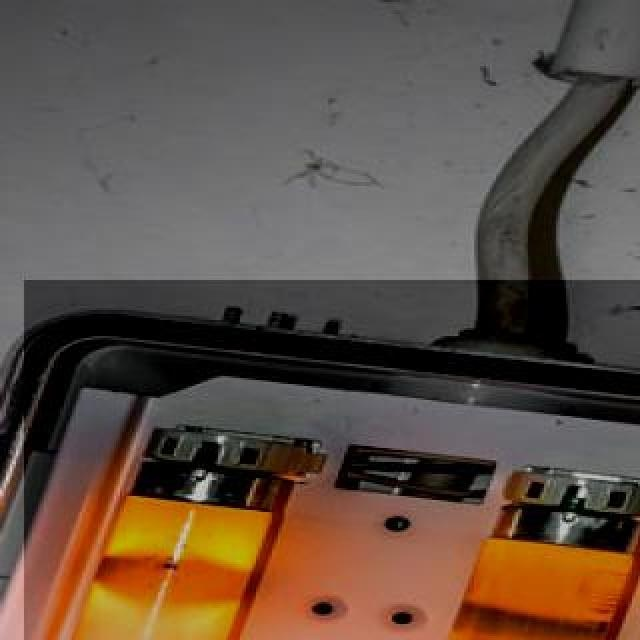fluorescent tube: (254, 434, 640, 640), (0, 404, 332, 640)
